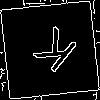K: (25, 25, 80, 83)
